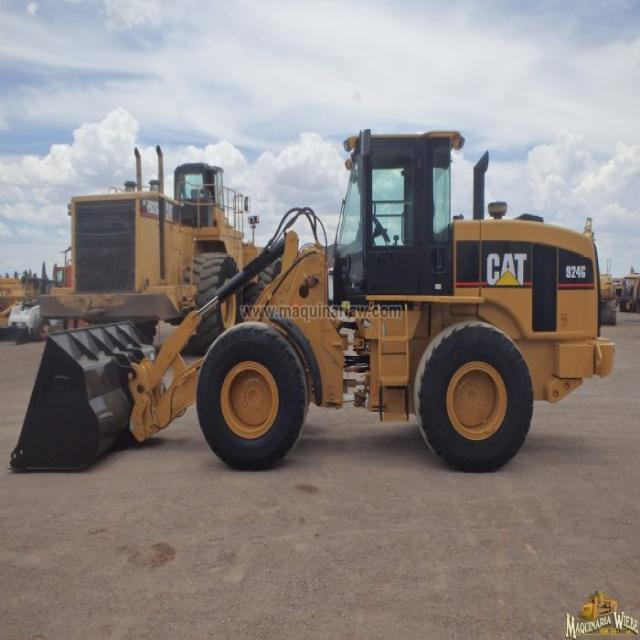buldozerpayloadergrader: (1, 120, 624, 480)
